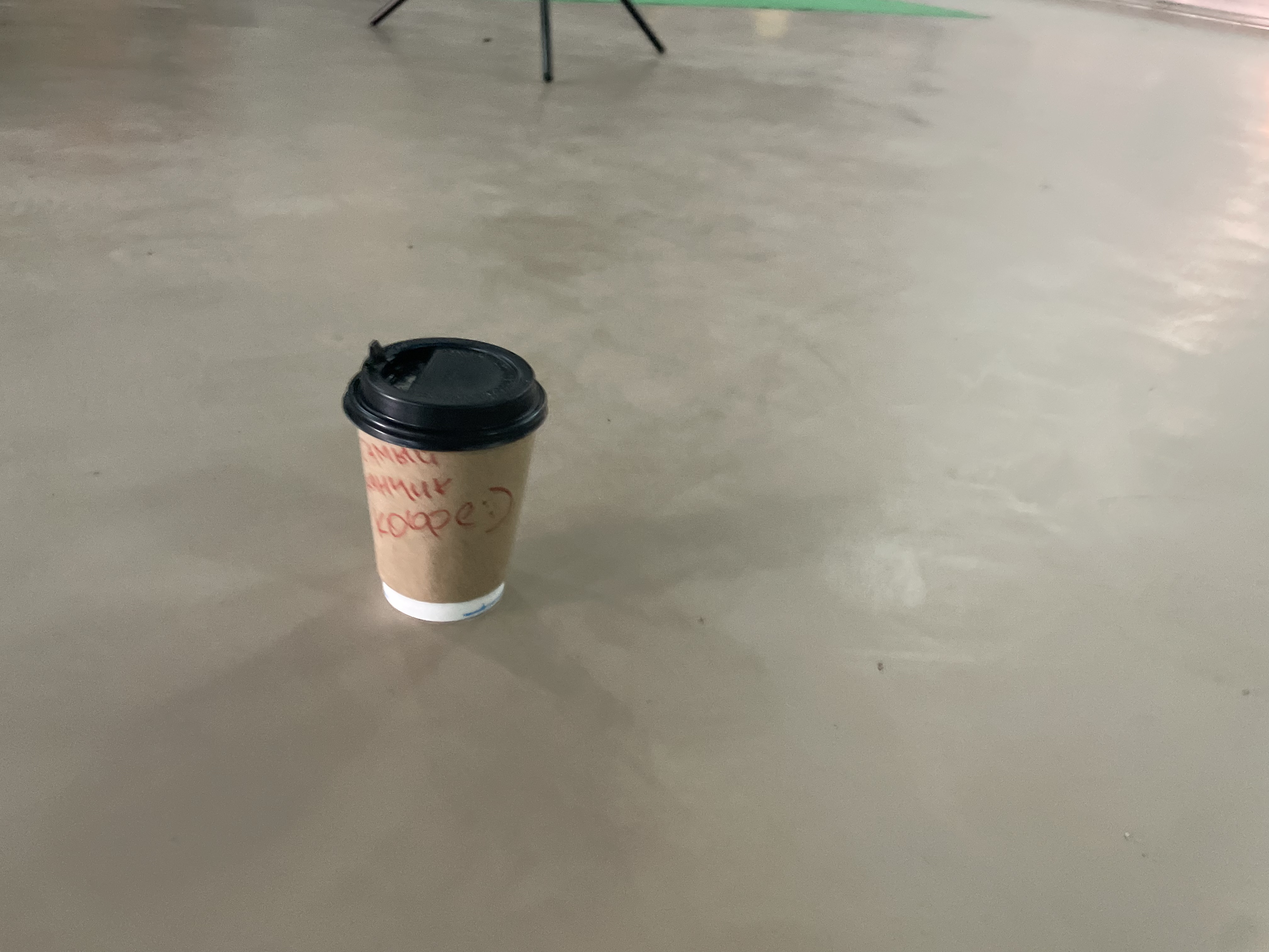cup: (341, 336, 548, 622)
